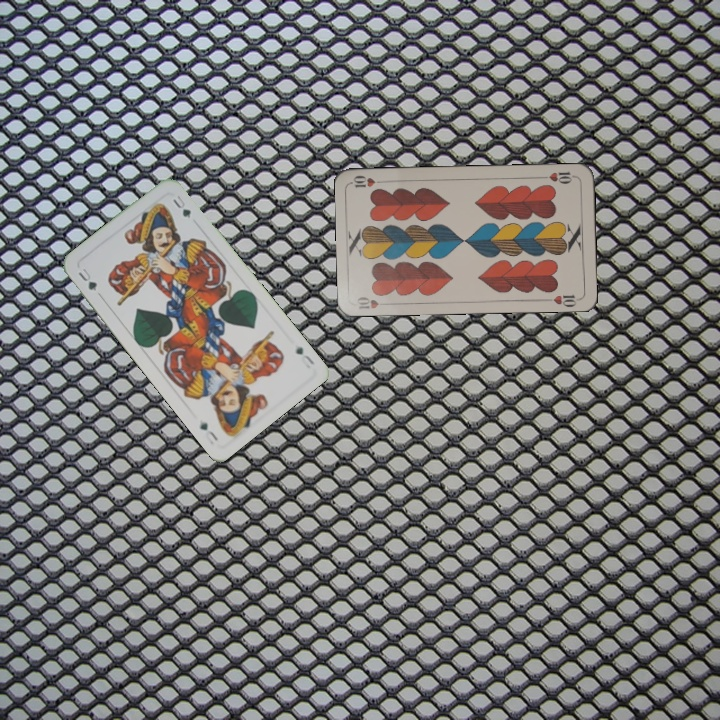GU: (74, 264, 100, 294), (291, 342, 317, 368)
H10: (353, 293, 392, 312), (538, 168, 578, 186)
